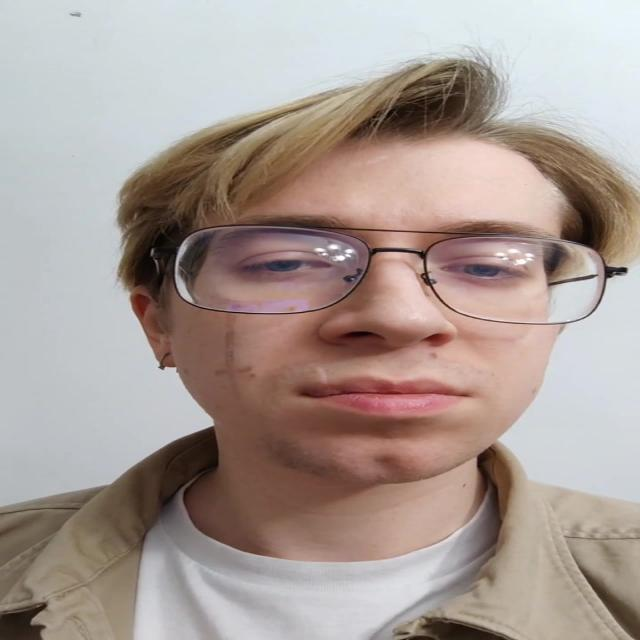earlobe: (128, 284, 180, 368)
